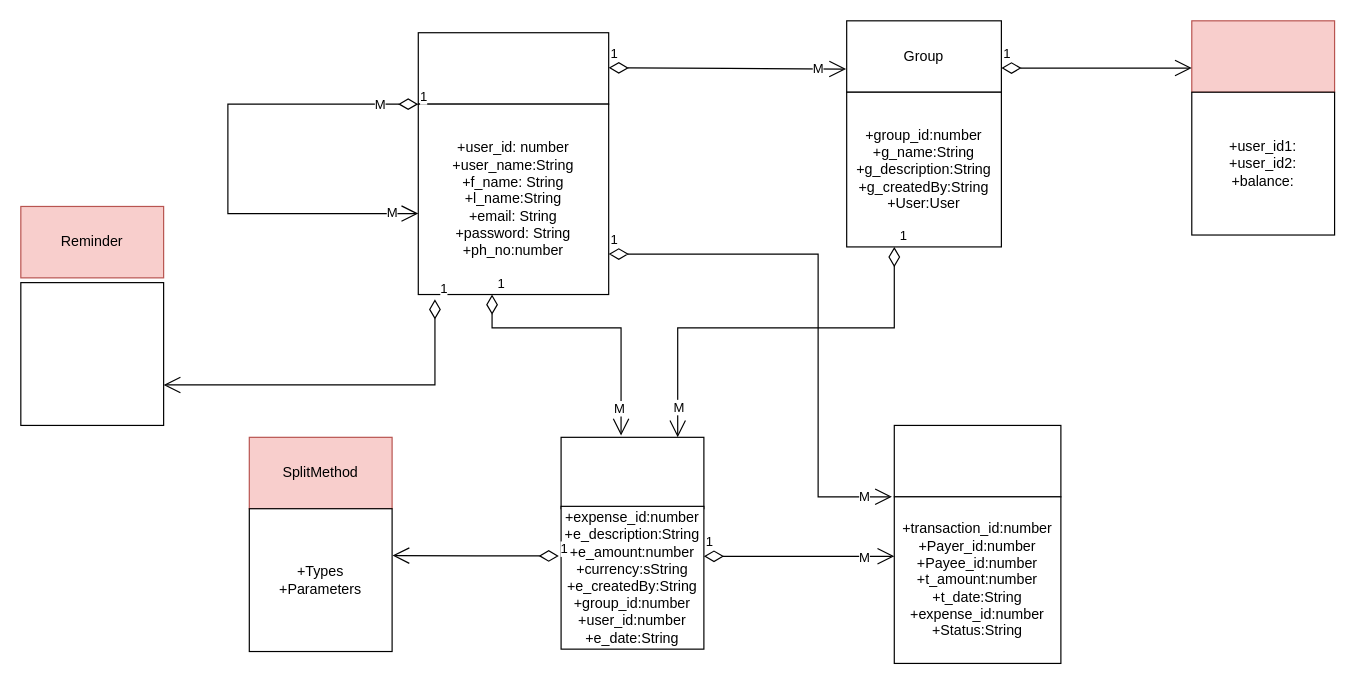
Some shapes in this 1355 by 684 pixel diagram are drawn without their labels. Here are the shapes that lost their labels. From the top down, the box of each, then its label:
(417, 32, 609, 104): User
(1191, 20, 1335, 92): Balance
(20, 281, 164, 425): +user_id: +Message: +email:
(560, 436, 704, 509): Expense
(893, 424, 1061, 497): Transaction
